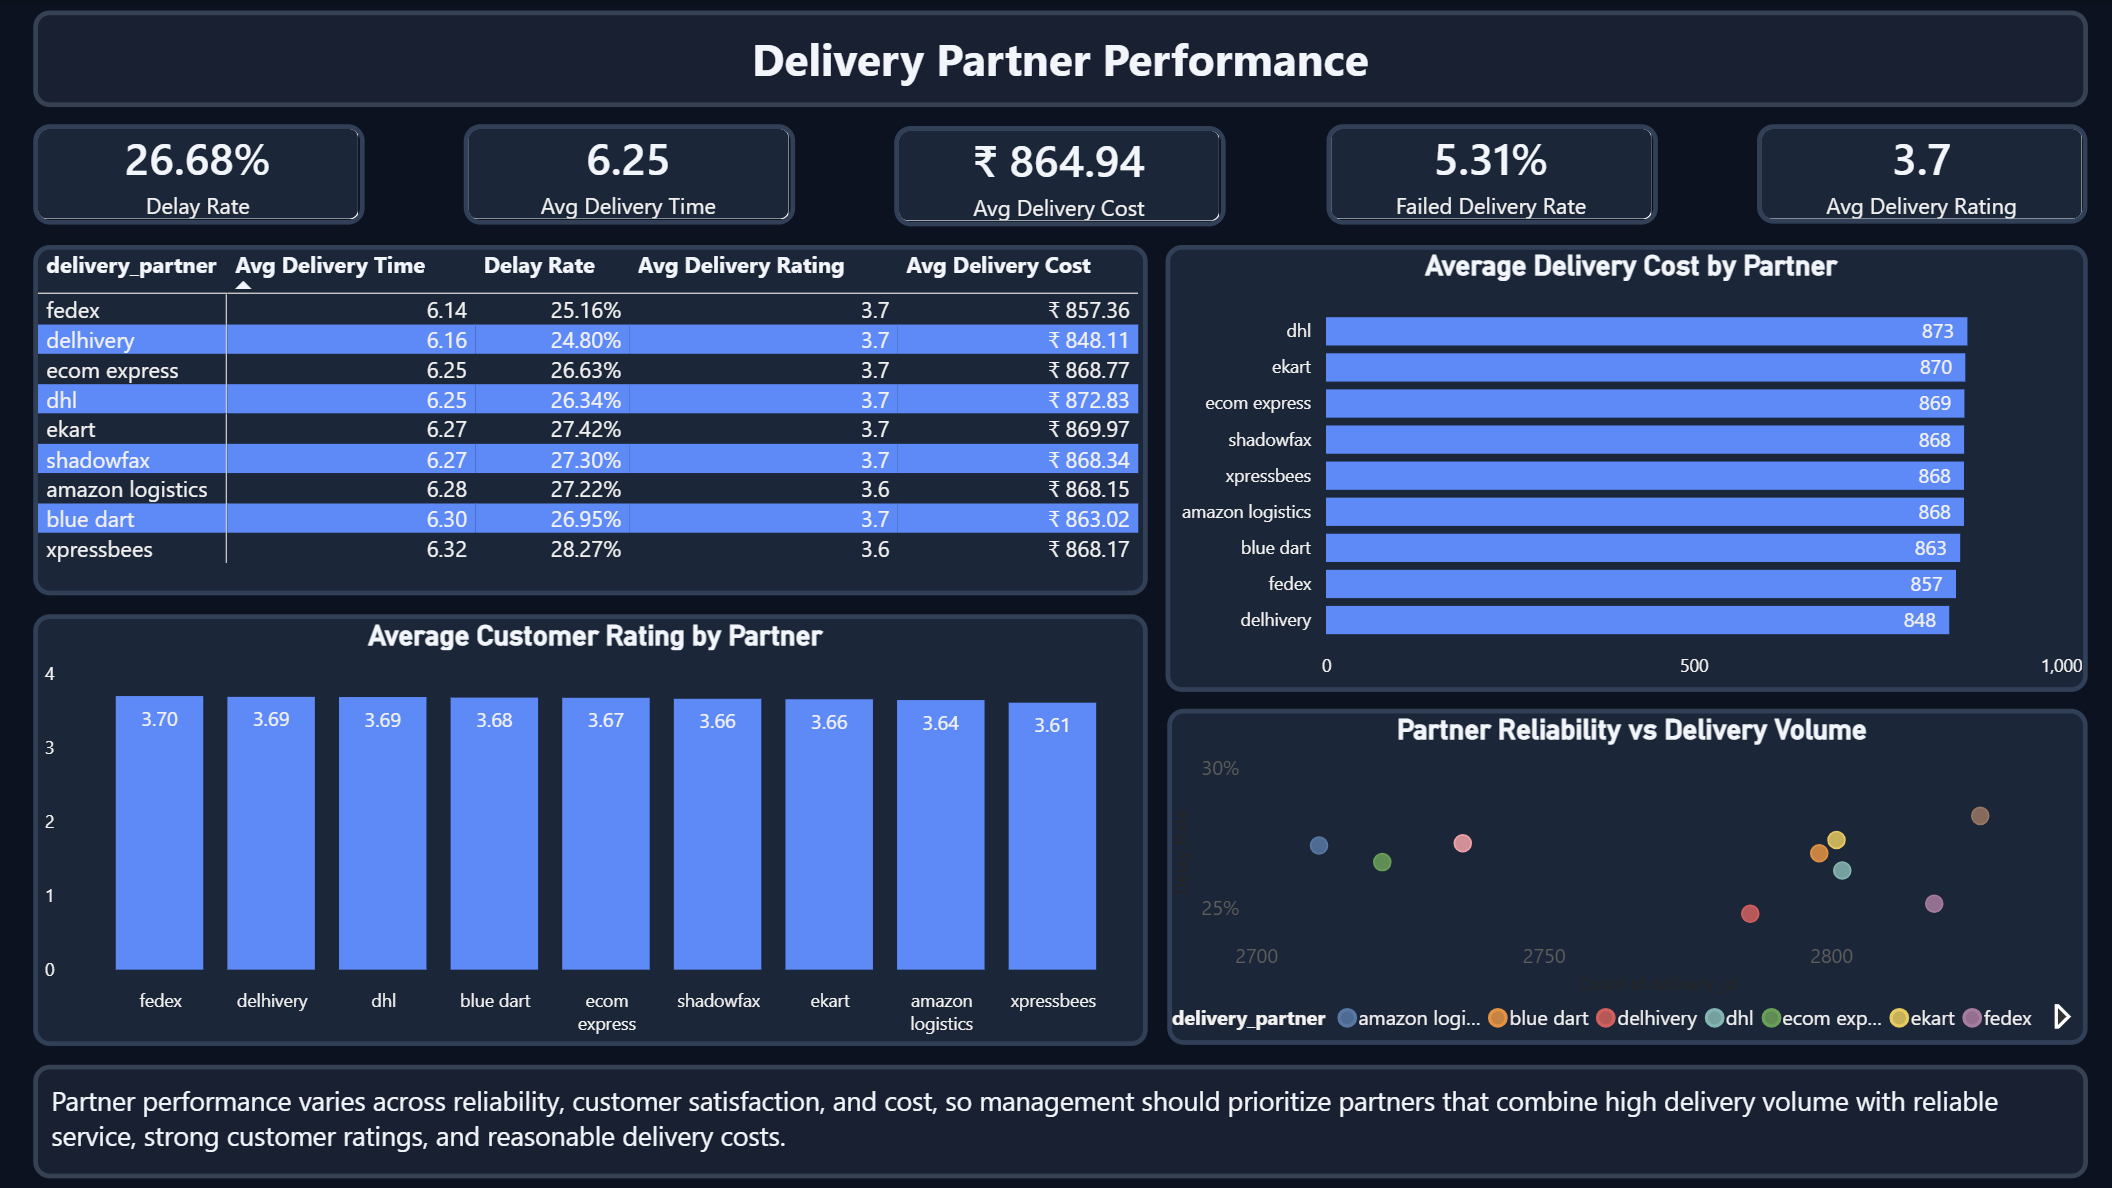

Layout of this report page (visuals, bound fields, positions):
{"tool":"powerbi","page":{"name":"Delivery Partner Performance","canvas":[1280,720],"ordinal":2},"visuals":[{"type":"textbox","box":[19.9,6.5,1239.9,58.1],"z":0},{"type":"cardVisual","fields":{"Data":["delivery_logistics_clean.Failed Delivery Rate"]},"box":[800.1,75,199.7,60.7],"z":1000},{"type":"cardVisual","fields":{"Data":["delivery_logistics_clean.Delay Rate"]},"box":[19.9,75,199.7,60.7],"z":2000},{"type":"cardVisual","fields":{"Data":["delivery_logistics_clean.Average Delivery Time"]},"box":[279.9,75,199.7,60.7],"z":3000},{"type":"cardVisual","fields":{"Data":["delivery_logistics_clean.Avg Delivery Cost"]},"box":[540,76.1,199.7,60.7],"z":4000},{"type":"cardVisual","fields":{"Data":["delivery_logistics_clean.Avg Delivery Rating"]},"box":[1060.1,75.2,199.6,60.2],"z":5000},{"type":"scatterChart","title":"Partner Reliability vs Delivery Volume","fields":{"Series":["delivery_logistics_clean.delivery_partner"],"Y":["delivery_logistics_clean.Delay Rate"],"X":["CountNonNull(delivery_logistics_clean.delivery_id)"]},"box":[704.7,428.1,555.4,203.6],"z":6000},{"type":"clusteredColumnChart","title":"Average Customer Rating by Partner","fields":{"Category":["delivery_logistics_clean.delivery_partner"],"Y":["Avg(delivery_logistics_clean.delivery_rating)"]},"box":[19.9,370.6,672.6,261.1],"z":7000},{"type":"textbox","box":[19.9,642.8,1240.2,68.6],"z":8000},{"type":"clusteredBarChart","title":"Average Delivery Cost by Partner","fields":{"Category":["delivery_logistics_clean.delivery_partner"],"Y":["Avg(delivery_logistics_clean.delivery_cost)"]},"box":[703.6,148.2,556.5,269.9],"z":9000},{"type":"pivotTable","fields":{"Rows":["delivery_logistics_clean.delivery_partner"],"Values":["delivery_logistics_clean.Avg Delivery Time","delivery_logistics_clean.Delay Rate","delivery_logistics_clean.Avg Delivery Rating","delivery_logistics_clean.Avg Delivery Cost"]},"box":[19.9,148.2,672.6,211.3],"z":10000}]}

Visuals, with their boxes in screenshot pixels (x1, y1, x2, y2), scaled from the page's 1280x720 canvas onto the 2112x1188 screenshot:
textbox: bbox=[33, 11, 2079, 107]
cardVisual - delivery_logistics_clean.Failed Delivery Rate: bbox=[1320, 124, 1650, 224]
cardVisual - delivery_logistics_clean.Delay Rate: bbox=[33, 124, 362, 224]
cardVisual - delivery_logistics_clean.Average Delivery Time: bbox=[462, 124, 791, 224]
cardVisual - delivery_logistics_clean.Avg Delivery Cost: bbox=[891, 126, 1221, 226]
cardVisual - delivery_logistics_clean.Avg Delivery Rating: bbox=[1749, 124, 2079, 223]
"Partner Reliability vs Delivery Volume" scatterChart: bbox=[1163, 706, 2079, 1042]
"Average Customer Rating by Partner" clusteredColumnChart: bbox=[33, 611, 1143, 1042]
textbox: bbox=[33, 1061, 2079, 1174]
"Average Delivery Cost by Partner" clusteredBarChart: bbox=[1161, 245, 2079, 690]
pivotTable - delivery_logistics_clean.delivery_partner x delivery_logistics_clean.Avg Delivery Time: bbox=[33, 245, 1143, 593]
